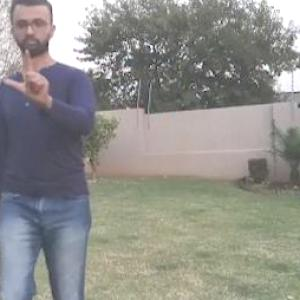land_hand: (1, 34, 52, 103)
